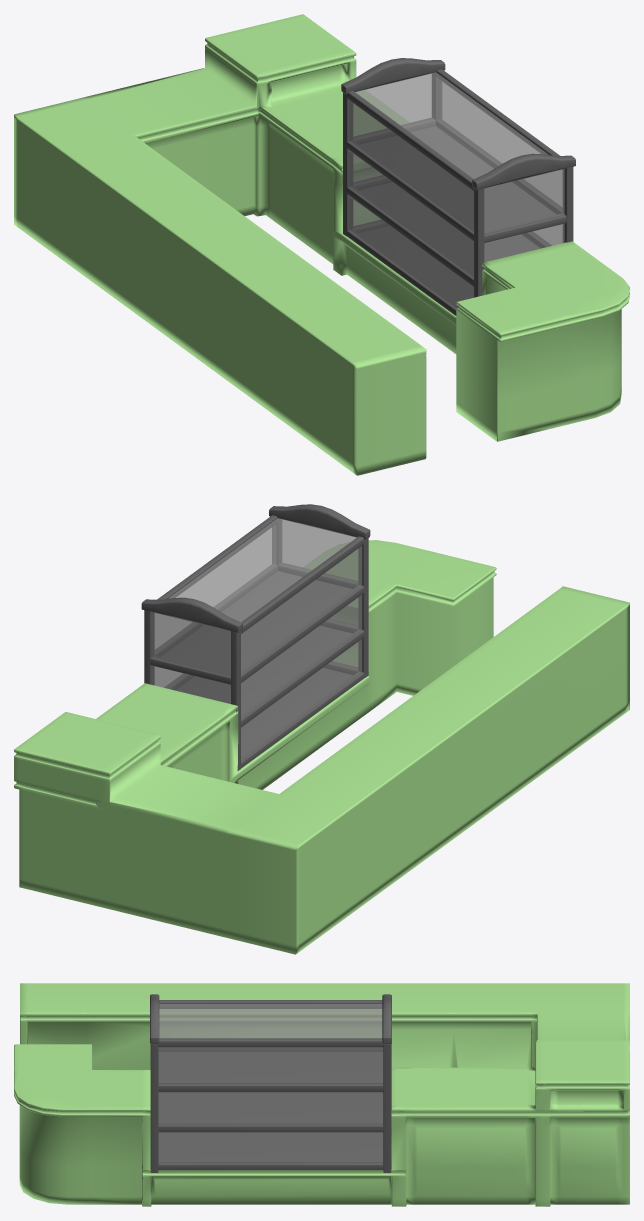
File: Counter_Low.fbx
3 renders of one model, top to bottom at view 1: azimuth 30°, elevation 25°; view 2: azimuth 150°, elevation 25°; view 3: azimuth 270°, elevation 25°, orthographic. The views are drawn at different scales.
Visible parts, largest first — view 1: polySurface164; view 2: polySurface164; view 3: polySurface164.
Part boxes in pixels (bbox=[...]): polySurface164: bbox=[14, 14, 629, 475]; polySurface164: bbox=[14, 504, 629, 954]; polySurface164: bbox=[14, 983, 629, 1206].
Size of the model in its own units: 270 by 180 by 554.
